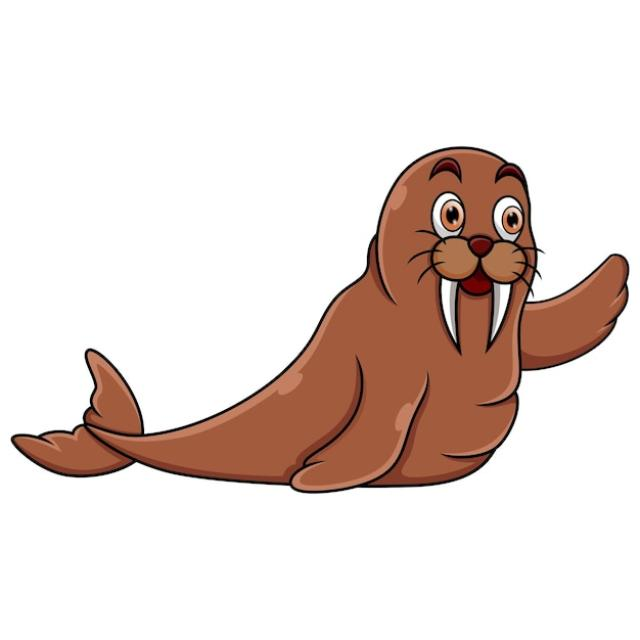walrus: (29, 111, 636, 543)
